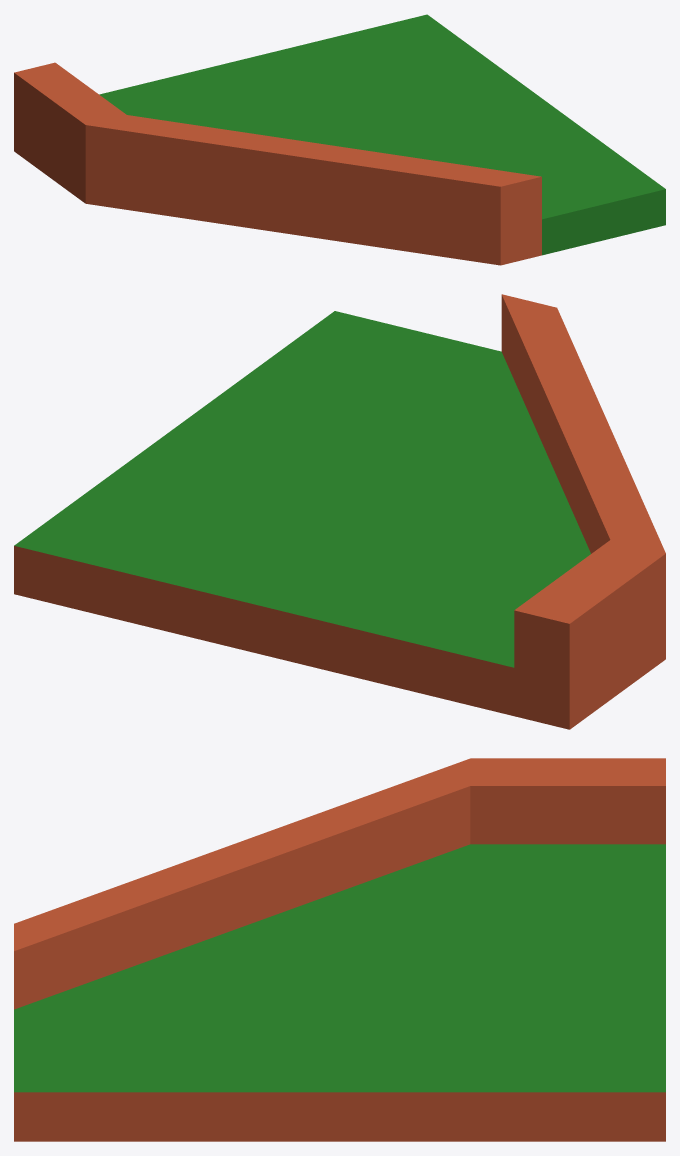
Rendered from floor_corner_cut.fbx.
3 renders of one model, top to bottom at view 1: azimuth 30°, elevation 25°; view 2: azimuth 150°, elevation 25°; view 3: azimuth 270°, elevation 25°, orthographic. The views are drawn at different scales.
Visible parts, largest first — view 1: Floor, Wall; view 2: Floor, Wall; view 3: Floor, Wall.
Part boxes in pixels (x1=…): Floor: x1=14, y1=14, x2=665, y2=265; Wall: x1=14, y1=62, x2=541, y2=229; Floor: x1=14, y1=311, x2=665, y2=729; Wall: x1=501, y1=294, x2=665, y2=681; Floor: x1=14, y1=844, x2=665, y2=1141; Wall: x1=14, y1=758, x2=665, y2=1009.
Bounding box in the file's own units: 240 × 43.69 × 240.
